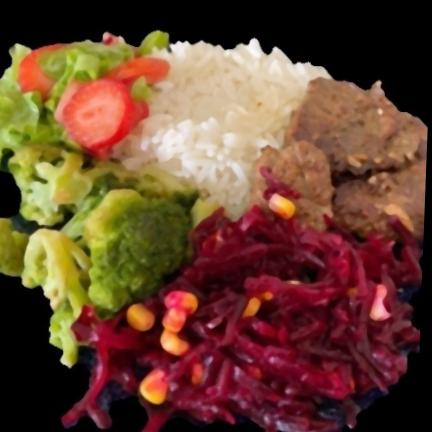beet: (59, 217, 422, 432)
broccoli: (0, 149, 222, 376)
meat: (259, 75, 428, 233)
rice: (110, 41, 319, 218)
salad: (0, 34, 169, 190)
